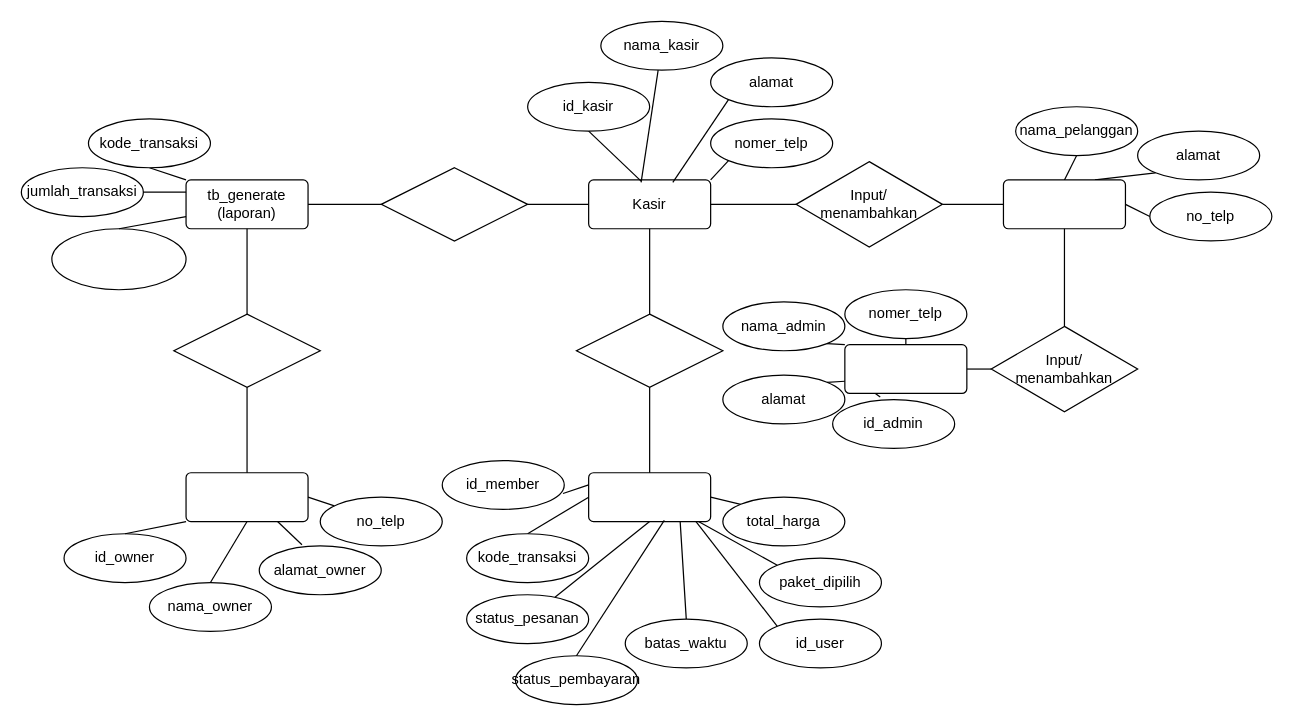
This 1293x726 diagram has some shape labels left out. The centre of each missing label's shape, as x and y in pixels:
Admin: (x=905, y=368)
jumlah_keuntungan: (x=118, y=259)
Melakukan: (x=649, y=350)
Melaporkan: (x=246, y=350)
Membuat: (x=454, y=204)
Owner: (x=246, y=497)
Regisrtasi Pelanggan: (x=1063, y=204)
tb_transaksi: (x=649, y=497)
